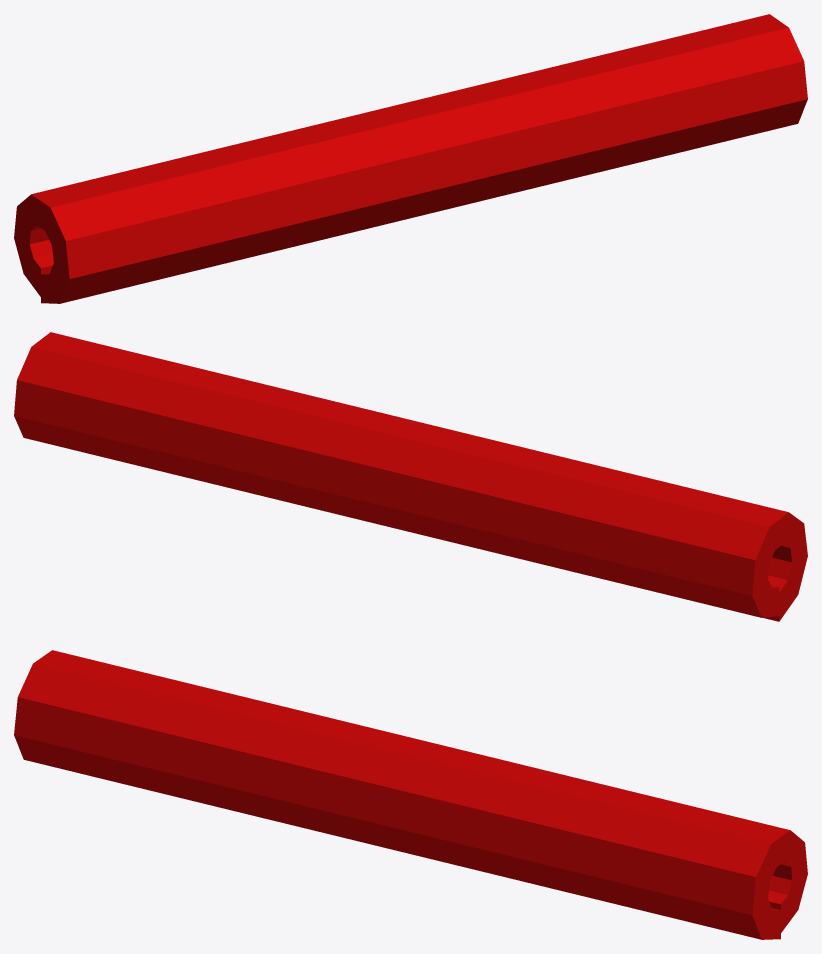
Rendered from RedMat.fbx.
The picture shows the model from 3 angles, top to bottom: view 1: azimuth 30°, elevation 25°; view 2: azimuth 150°, elevation 25°; view 3: azimuth 330°, elevation 25°; orthographic projection.
Visible parts, largest first — view 1: RedMat; view 2: RedMat; view 3: RedMat.
Part boxes in pixels (x1,y1,x2,y2): RedMat: [14, 14, 807, 303]; RedMat: [14, 332, 807, 621]; RedMat: [14, 650, 807, 939].
Size of the model in its own units: 78.8 by 10.46 by 10.29.
